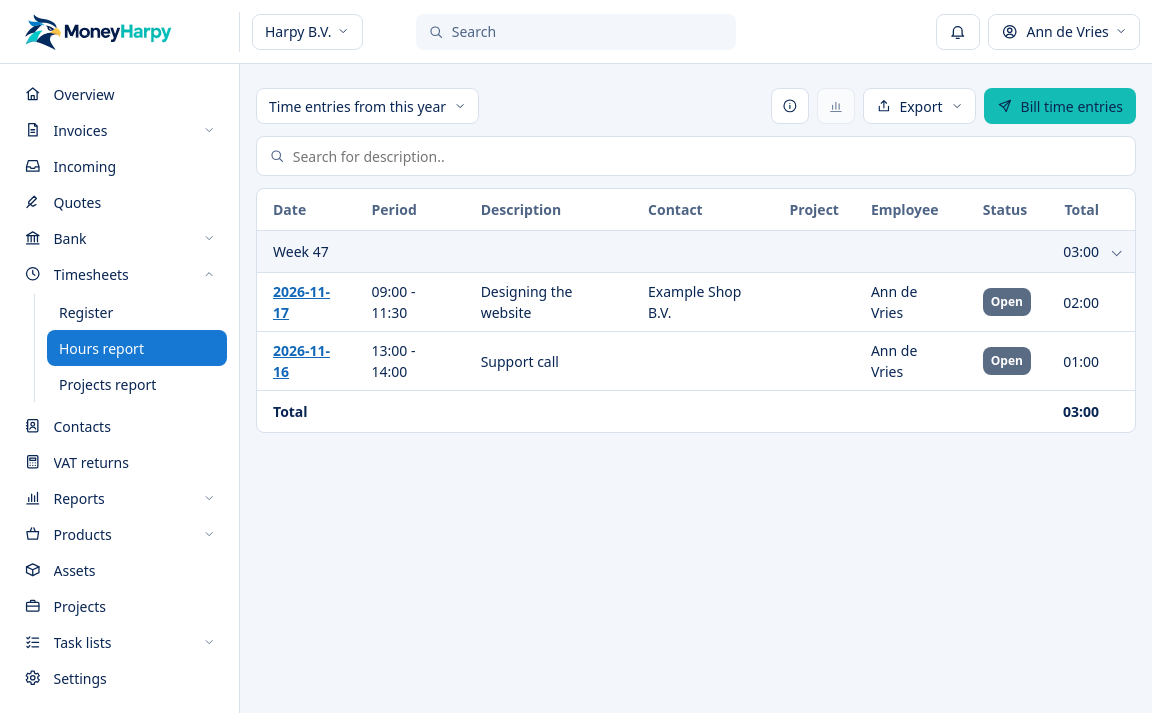
Test: billing time entries › goes back a step, and the hours report leads here
Click the link "Bill time entries".
click(1060, 106)  # box [984,88,1136,124]
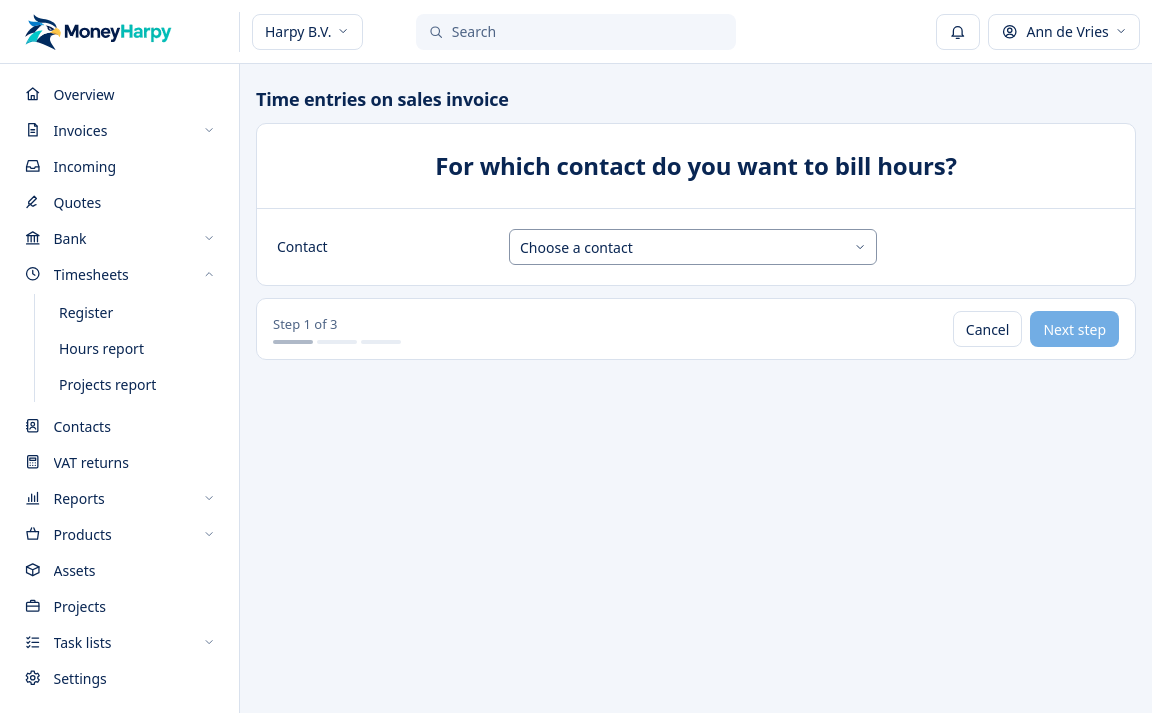
Expected: the text "Step 1 of 3" is shown, [273,315,338,333]
Expected: the button "Next step" is disabled, [1030,311,1119,347]
Click the dropdown labelled "contact".
click(576, 247)  # box [509,229,877,265]
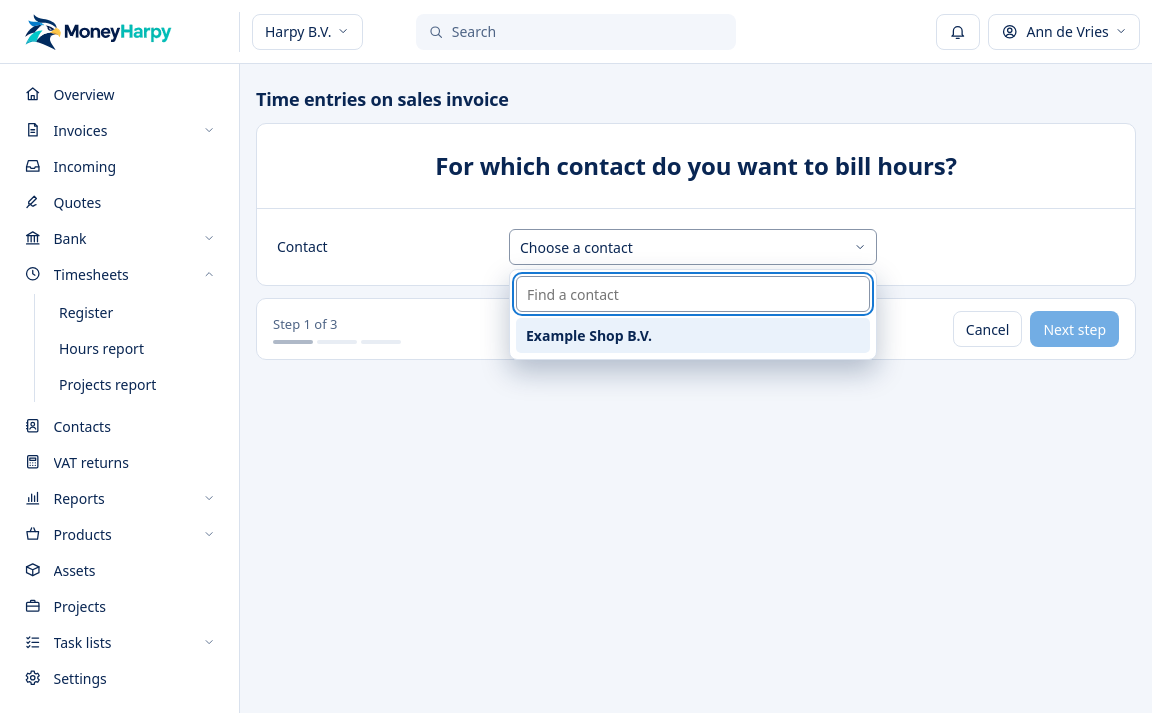
Click the option "Example Shop B.V.".
click(589, 336)  # box [516,318,870,353]
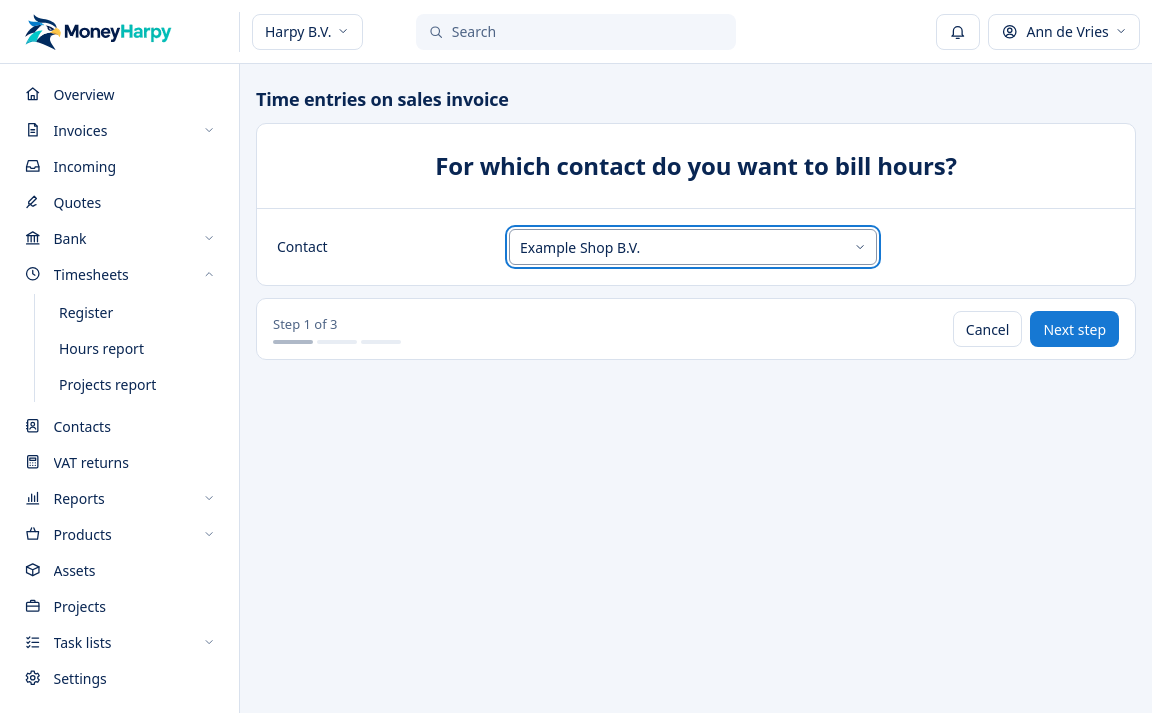
Click the button "Next step".
click(1075, 329)  # box [1030,311,1119,347]
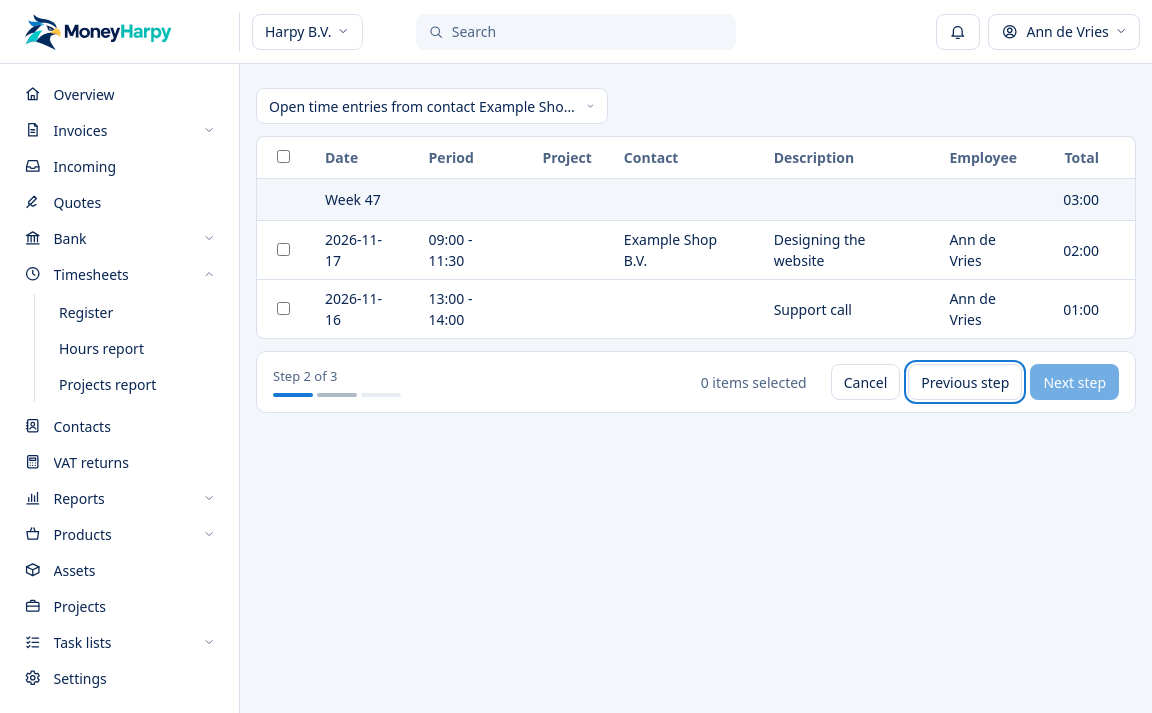
Expected: the column heading "Week 47" is shown, [309,179,1047,220]
Expected: the message reads "0 items selected", [701,372,807,392]
Click the button "Previous step".
click(965, 382)  # box [908,364,1022,400]
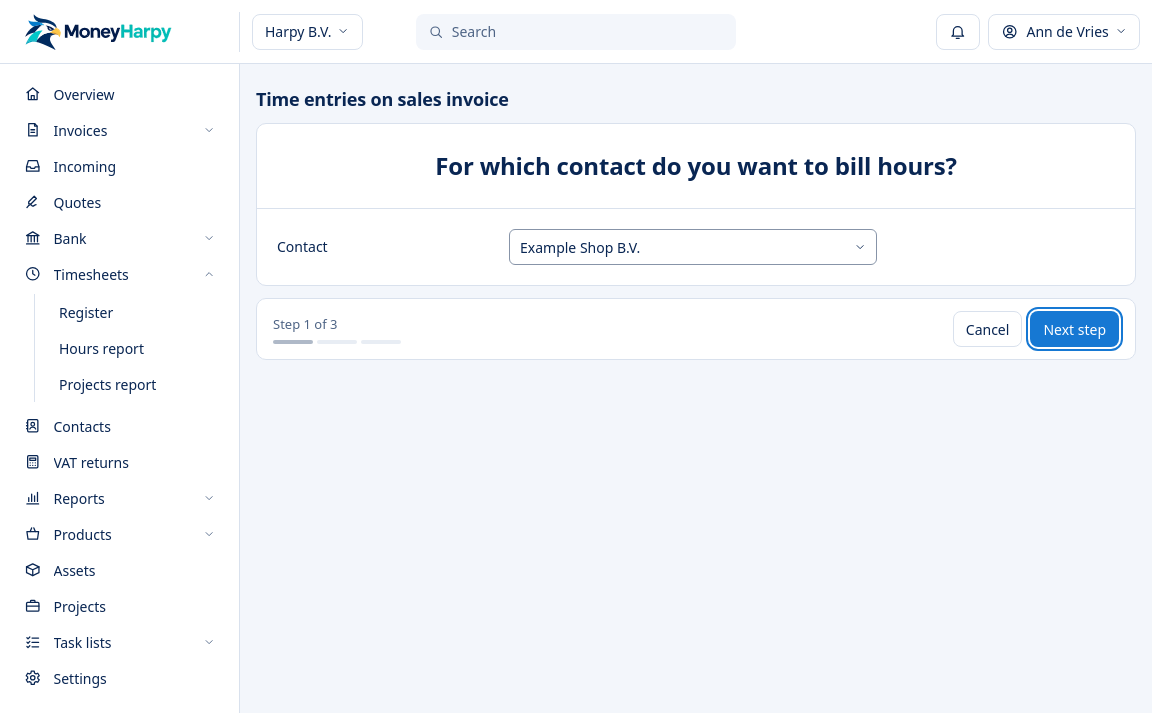
Expected: the form named "Contact to bill" is shown, [256,123,1136,360]
